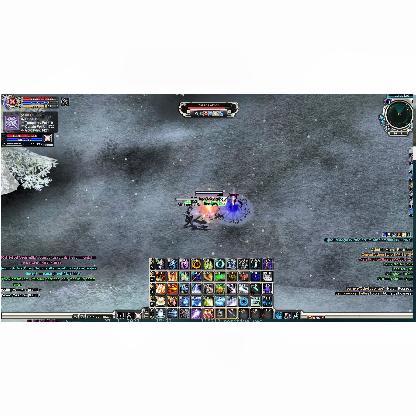caliana: (182, 208, 200, 230)
